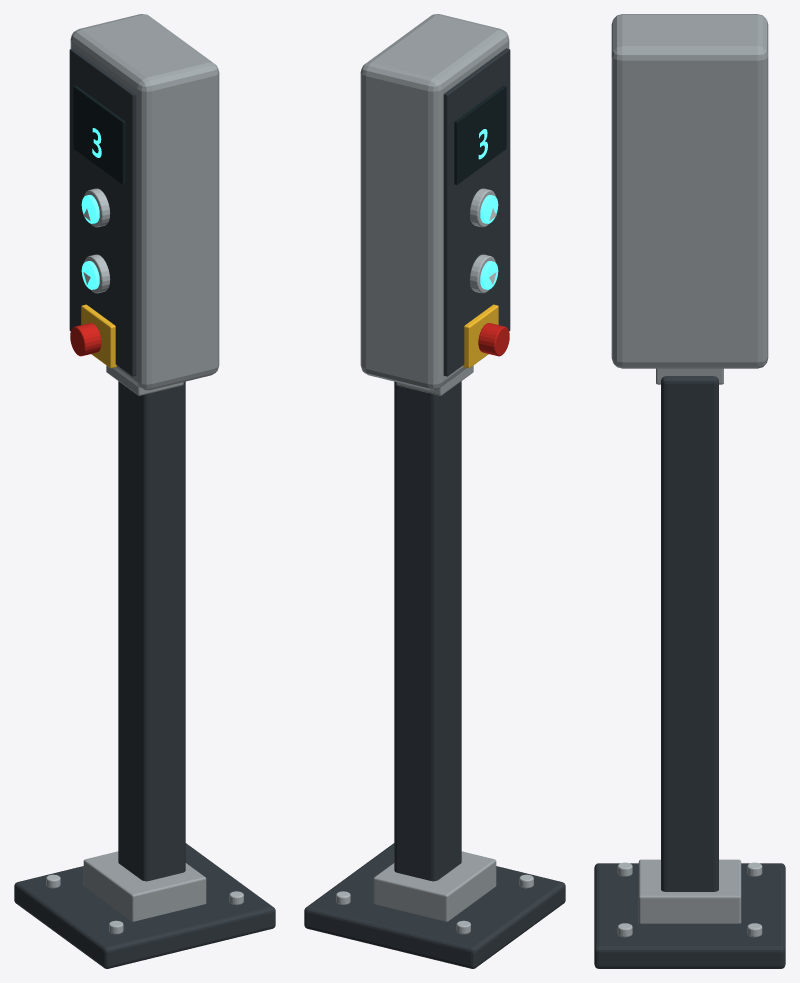
The model's file is SM_ELV_CallStand_L3.fbx.
3 views of the same model, side by side, from view 1: azimuth 30°, elevation 25°; view 2: azimuth 150°, elevation 25°; view 3: azimuth 270°, elevation 25° (orthographic). The views are drawn at different scales.
Parts seen in each view (by area): view 1: SM_ELV_CallStand_L3; view 2: SM_ELV_CallStand_L3; view 3: SM_ELV_CallStand_L3.
Part boxes in pixels (x1,y1,x2,y2): SM_ELV_CallStand_L3: (14,14,275,968); SM_ELV_CallStand_L3: (304,14,565,968); SM_ELV_CallStand_L3: (594,14,785,968).
Bounding box in the file's own units: 30 × 28 × 145.
